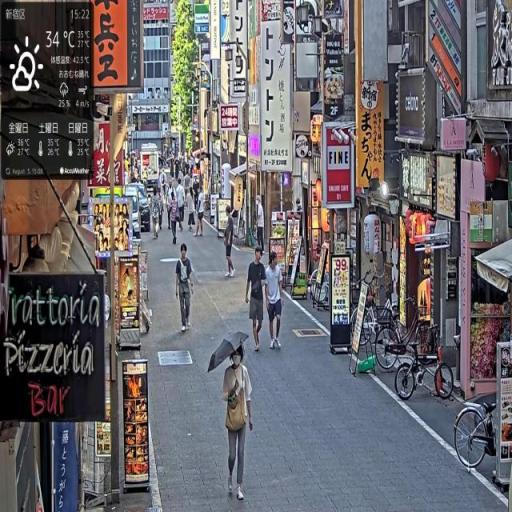person: (221, 339, 255, 506), (246, 246, 271, 356), (265, 251, 286, 354), (176, 244, 197, 333), (223, 205, 237, 279), (170, 190, 181, 248), (197, 186, 207, 238), (177, 179, 187, 229)
